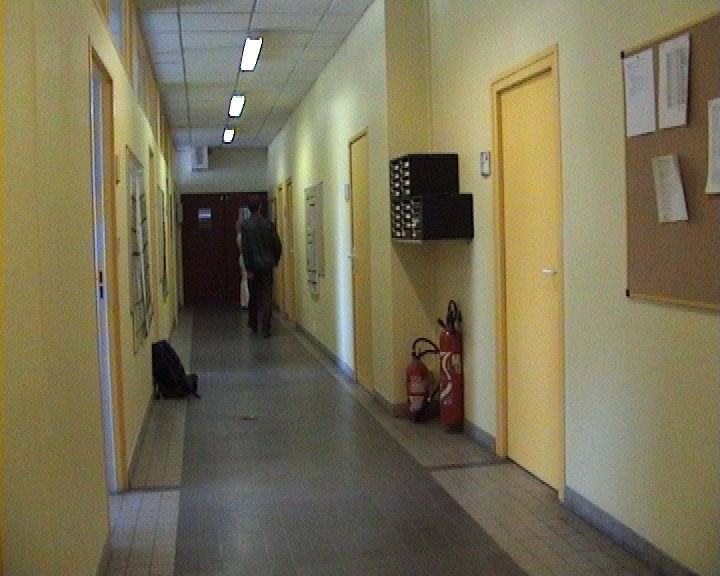leave bag unattended: (133, 324, 256, 415)
